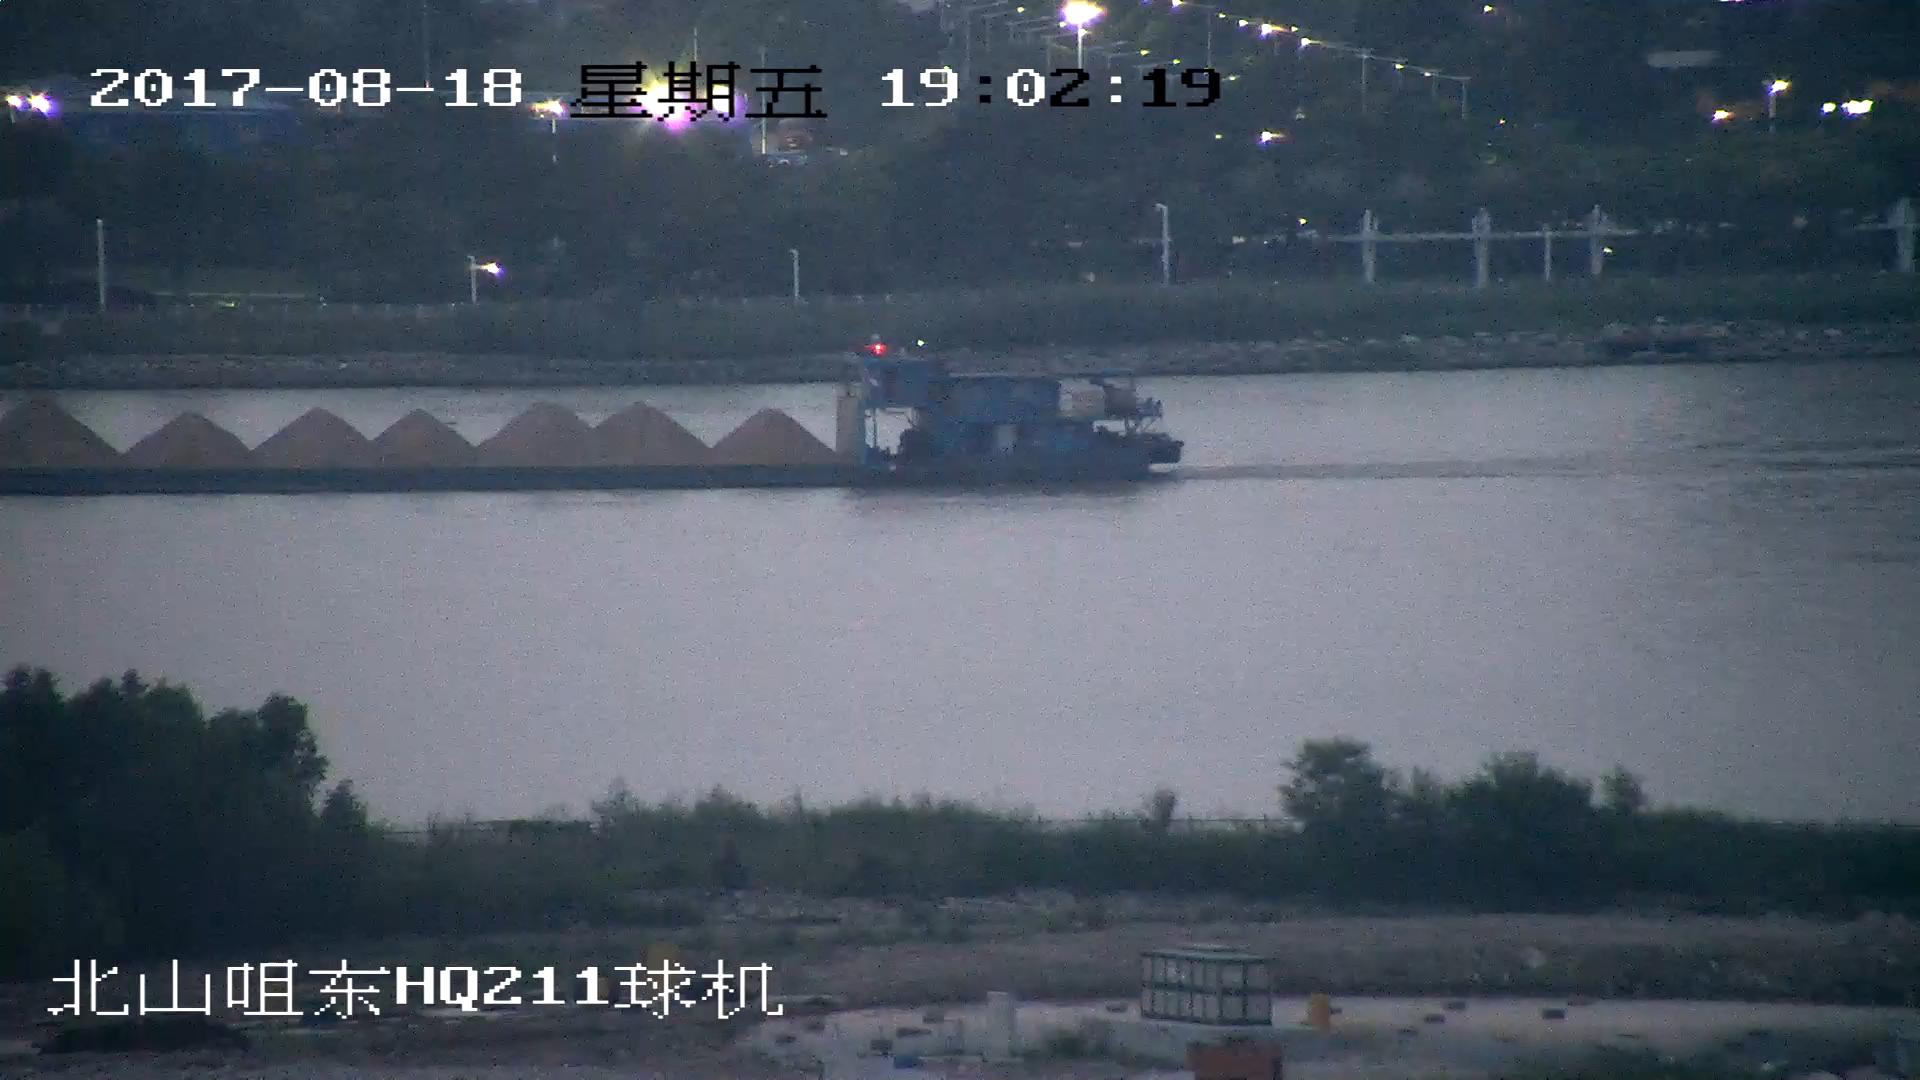ore carrier: (1, 333, 1187, 494)
